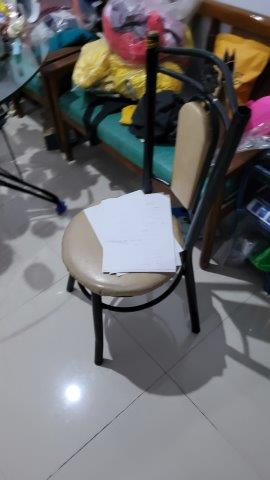kertas: (76, 190, 183, 278)
